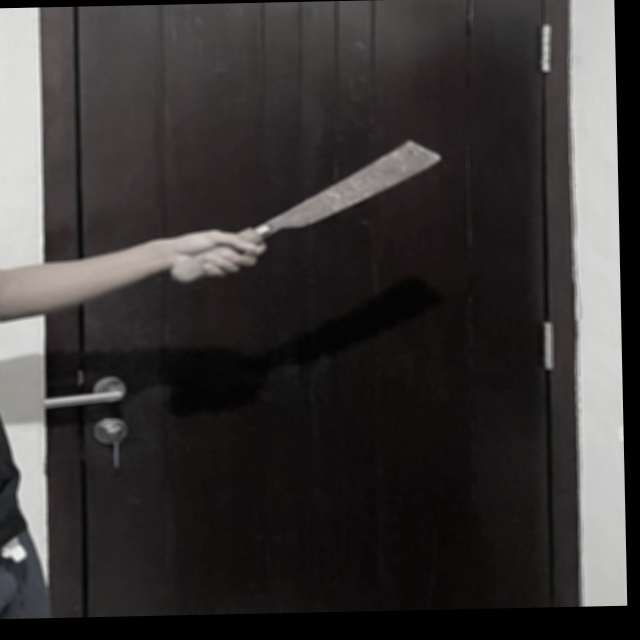Sharp-Object: (166, 137, 446, 286)
